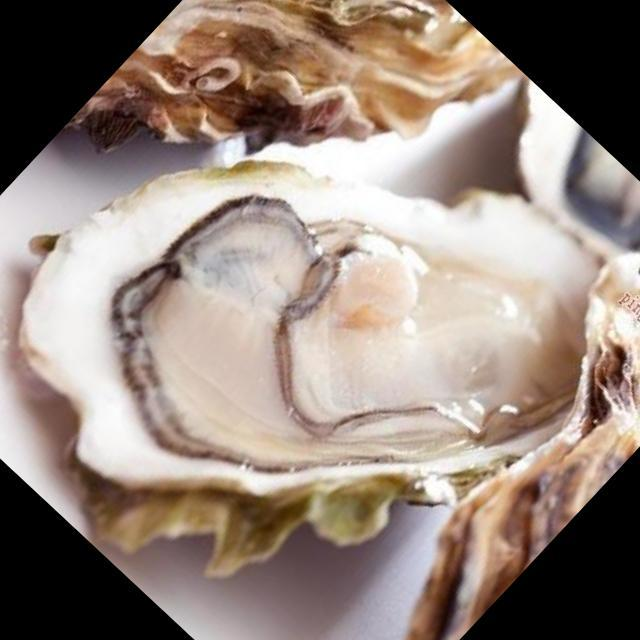Oyster-Closed: (46, 0, 525, 351), (278, 233, 640, 640)
Oyster-Open: (0, 0, 640, 640)
